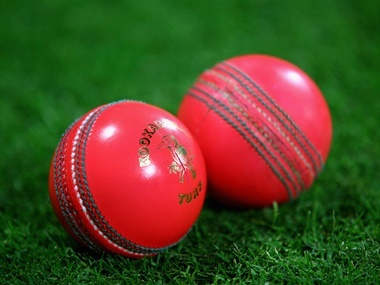red ball: (48, 99, 209, 257), (172, 54, 333, 209)
